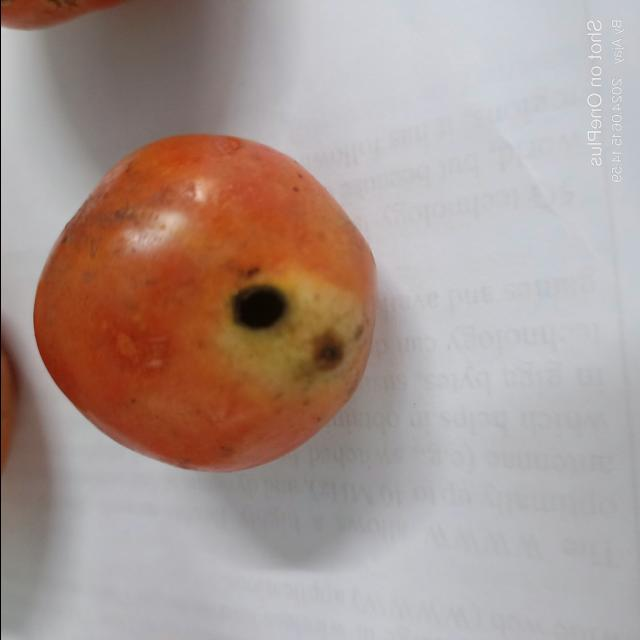fruitworm_bore: (222, 277, 292, 332), (304, 329, 348, 385)
